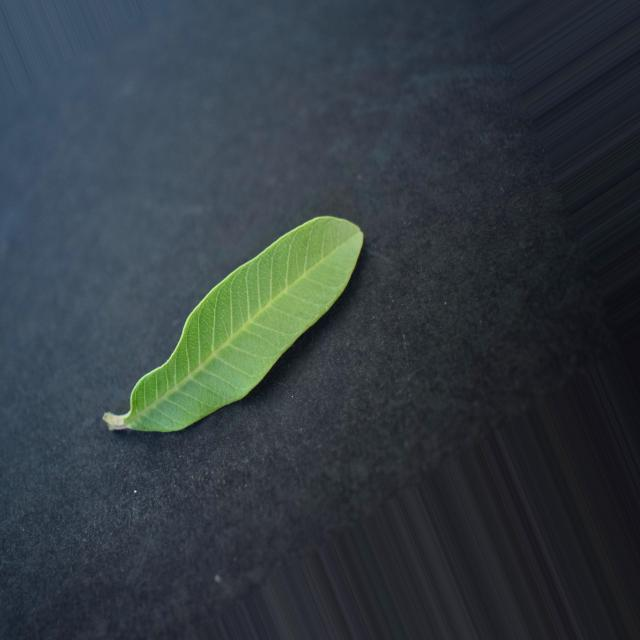Healthy: (105, 218, 362, 431)
